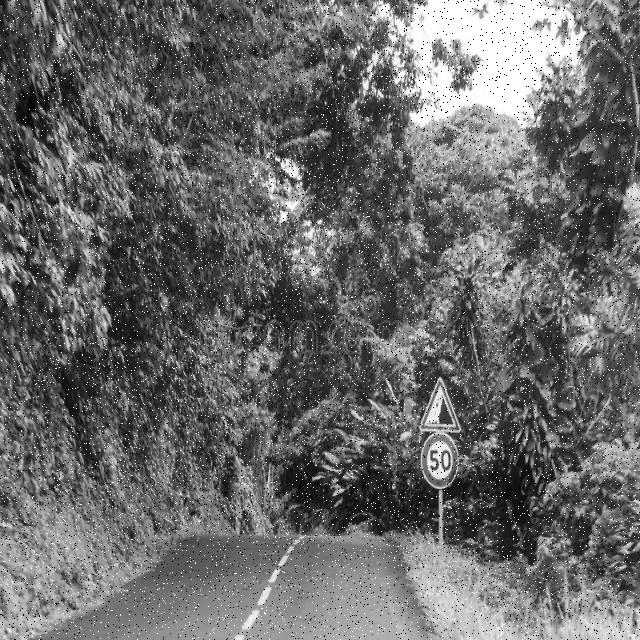speed_limit_50: (421, 433, 462, 491)
